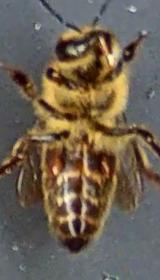varroa_mite: (85, 148, 118, 182), (39, 144, 66, 178)
